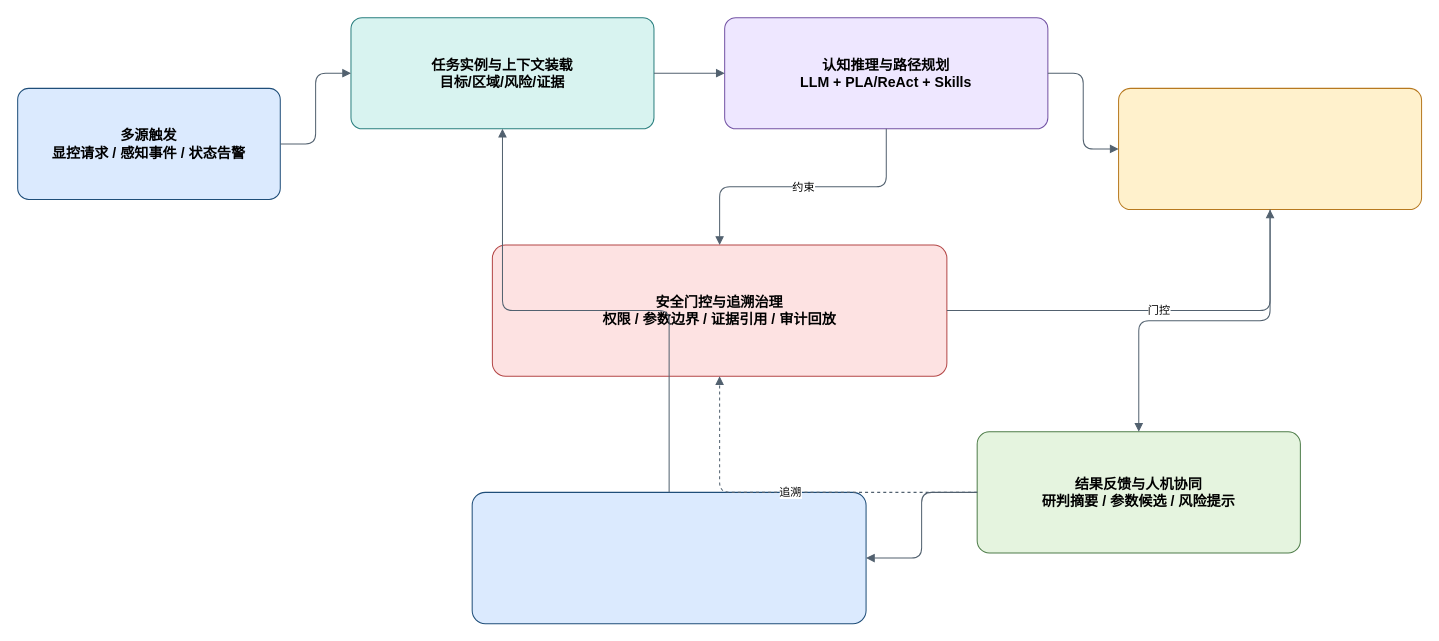
This 1439x641 diagram has some shape labels left out. The centre of each missing label's shape, as x and y in pixels:
"三阶分层记忆与经验演进 短期上下文 / 中期任务链 / 长期经验" belongs at pixel 668 557.
"受控工具与工作流 查询 / 仿真 / 审批 / 回滚" belongs at pixel 1270 148.
